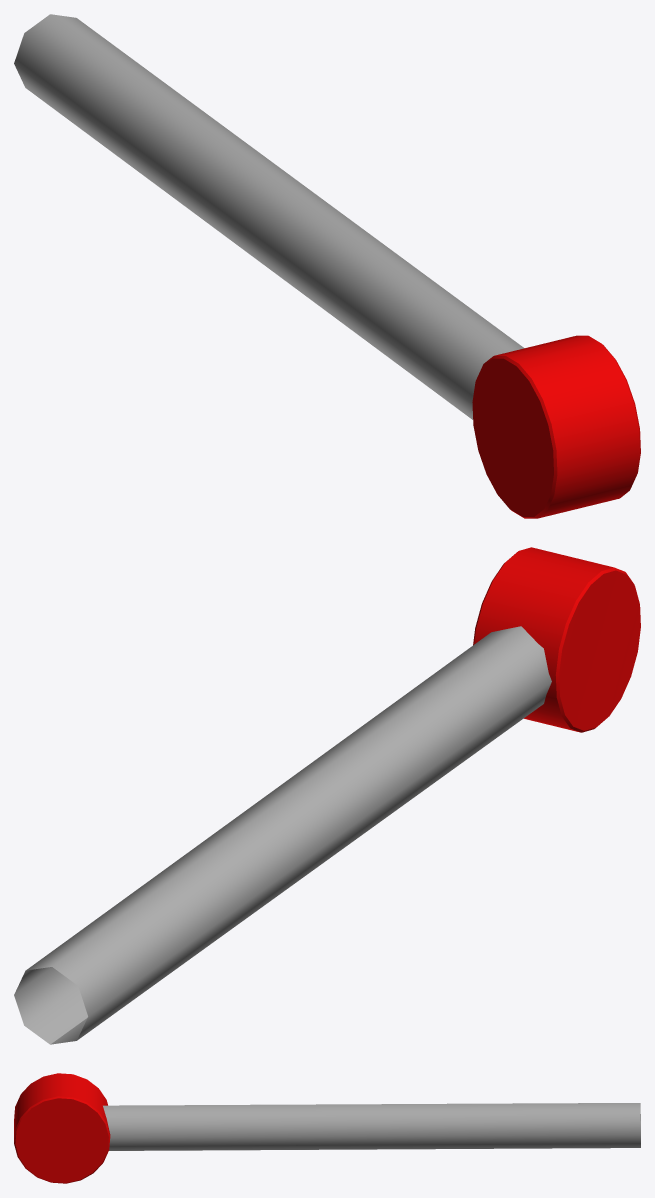
Rendered from ExcavatorMachine_Cylinder01_01a_snaps005.fbx.
The picture shows the model from 3 angles, top to bottom: view 1: azimuth 30°, elevation 25°; view 2: azimuth 150°, elevation 25°; view 3: azimuth 270°, elevation 25°; orthographic projection. The views are drawn at different scales.
Visible parts, largest first — view 1: ExcavatorMachine_Cylinder01_01a_snaps005; view 2: ExcavatorMachine_Cylinder01_01a_snaps005; view 3: ExcavatorMachine_Cylinder01_01a_snaps005.
Part boxes in pixels (box(x1,y1,x2,y2)): ExcavatorMachine_Cylinder01_01a_snaps005: box(14, 14, 640, 518); ExcavatorMachine_Cylinder01_01a_snaps005: box(14, 547, 640, 1044); ExcavatorMachine_Cylinder01_01a_snaps005: box(14, 1073, 640, 1183).
Size of the model in its own units: 12.08 by 20.24 by 132.
